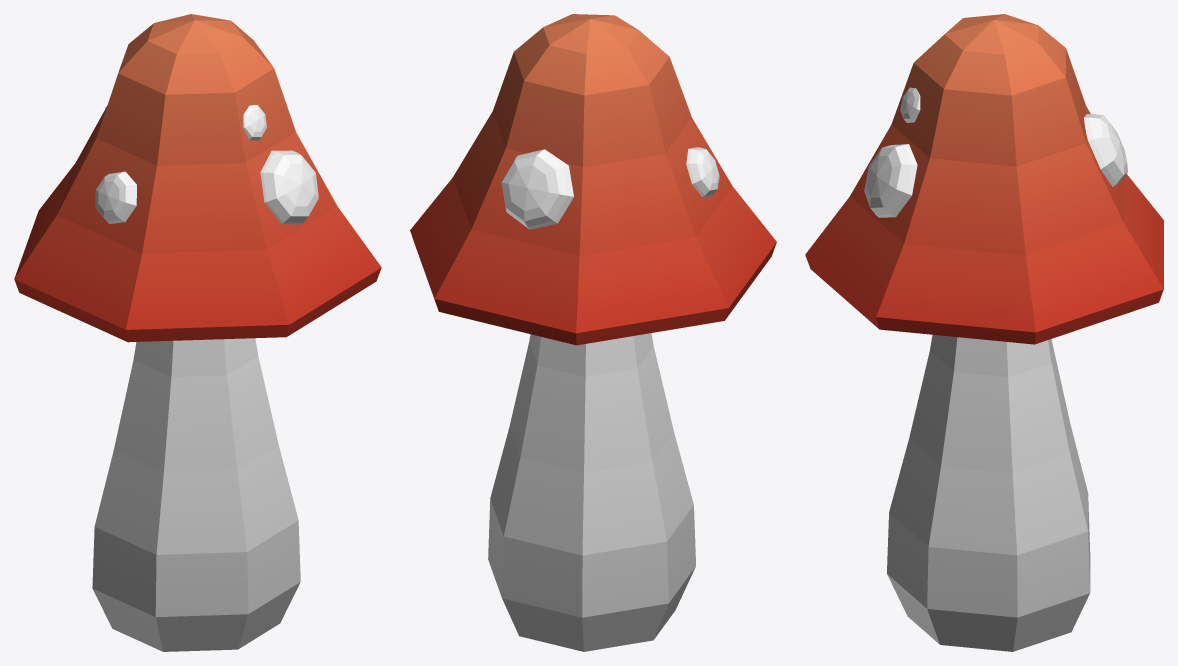
The model's file is agaric mushroom.fbx.
3 views of the same model, side by side, from view 1: azimuth 30°, elevation 25°; view 2: azimuth 150°, elevation 25°; view 3: azimuth 270°, elevation 25° (orthographic).
Parts seen in each view (by area): view 1: agaric mushroom; view 2: agaric mushroom; view 3: agaric mushroom.
Part boxes in pixels (<box>): agaric mushroom: <box>14,14,381,651</box>; agaric mushroom: <box>410,14,776,651</box>; agaric mushroom: <box>805,14,1163,651</box>.
Bounding box in the file's own units: 270 × 484 × 264.
